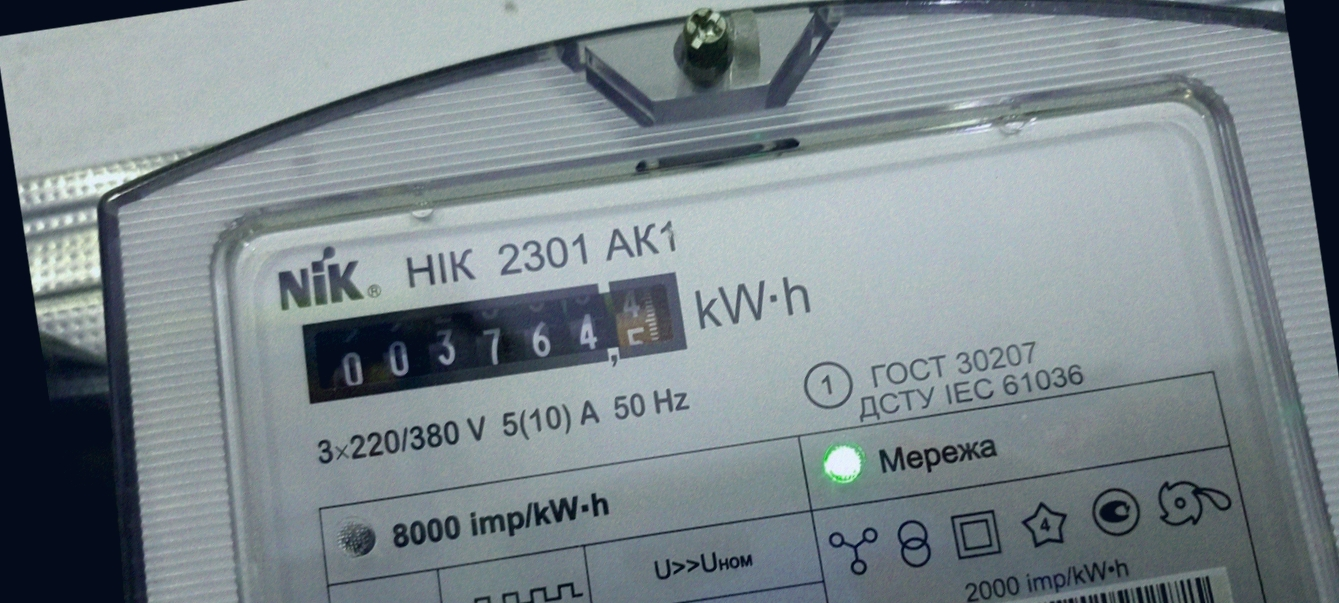0: (383, 336, 411, 379), (336, 347, 365, 388)
3: (430, 325, 458, 368)
4: (574, 310, 599, 352), (617, 285, 643, 320)
5: (622, 323, 647, 348)
6: (527, 318, 553, 359)
7: (478, 323, 507, 367)
screen: (281, 252, 703, 420)
